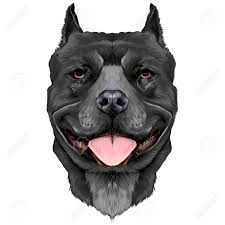Perro Pitbull: (34, 3, 187, 222)
